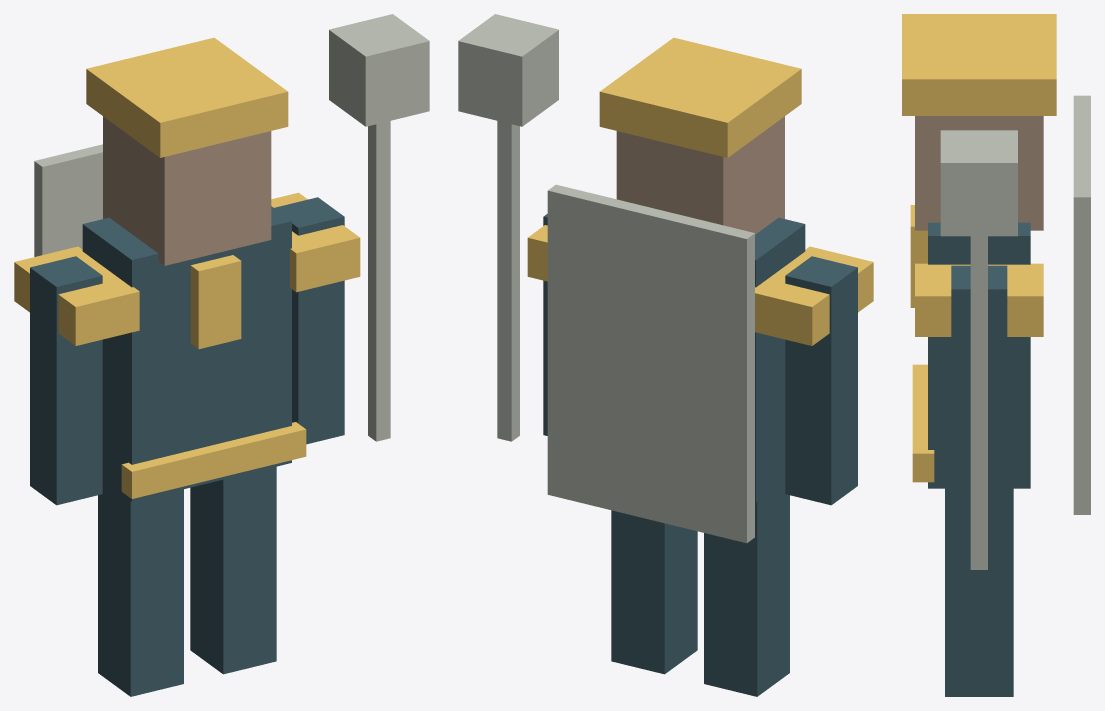
Rendered from 03_kiva_trenchmark_broker_at.glb.
The picture shows the model from 3 angles, left to right: view 1: azimuth 30°, elevation 25°; view 2: azimuth 150°, elevation 25°; view 3: azimuth 270°, elevation 25°; orthographic projection. The views are drawn at different scales.
Visible parts, largest first — view 1: Kiva Trenchmark, Broker at; view 2: Kiva Trenchmark, Broker at; view 3: Kiva Trenchmark, Broker at.
Part boxes in pixels (box(x1,y1,x2,y2)): Kiva Trenchmark, Broker at: box(14, 14, 429, 696); Kiva Trenchmark, Broker at: box(458, 14, 873, 696); Kiva Trenchmark, Broker at: box(902, 14, 1090, 696).
Size of the model in its own units: 1.03 by 1.57 by 0.4388.
